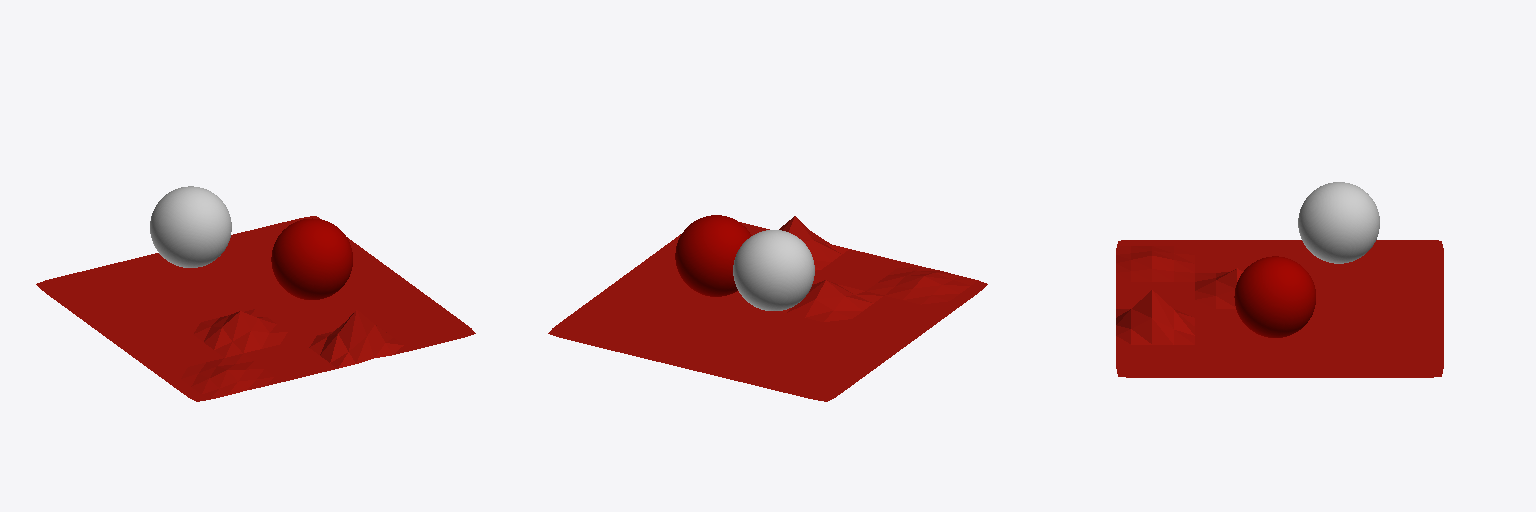
File: kraken.obj
The picture shows the model from 3 angles: view 1: azimuth 30°, elevation 25°; view 2: azimuth 150°, elevation 25°; view 3: azimuth 270°, elevation 25°; orthographic projection.
Parts seen in each view (by area): view 1: Plane, Icosphere_Icosphere.001, Icosphere.001_Icosphere; view 2: Plane, Icosphere_Icosphere.001, Icosphere.001_Icosphere; view 3: Plane, Icosphere_Icosphere.001, Icosphere.001_Icosphere.
Boxes of the visible parts, box(x1,y1,x2,y2) form: Plane: box(36, 216, 475, 401); Icosphere_Icosphere.001: box(150, 186, 231, 267); Icosphere.001_Icosphere: box(271, 218, 352, 299); Plane: box(548, 216, 987, 401); Icosphere_Icosphere.001: box(733, 230, 814, 310); Icosphere.001_Icosphere: box(675, 215, 751, 296); Plane: box(1116, 240, 1443, 377); Icosphere_Icosphere.001: box(1298, 182, 1379, 263); Icosphere.001_Icosphere: box(1234, 256, 1315, 337).
Size of the model in its own units: 8 by 2.85 by 8.